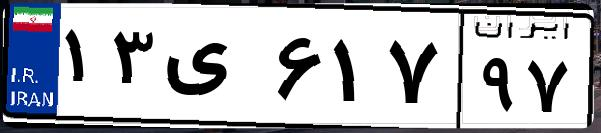1: (330, 28, 385, 110), (57, 26, 110, 100)
3: (110, 28, 158, 98)
6: (270, 28, 330, 110)
7: (385, 28, 445, 110), (525, 38, 570, 115)
9: (475, 38, 525, 113)
ی: (158, 20, 270, 120)
